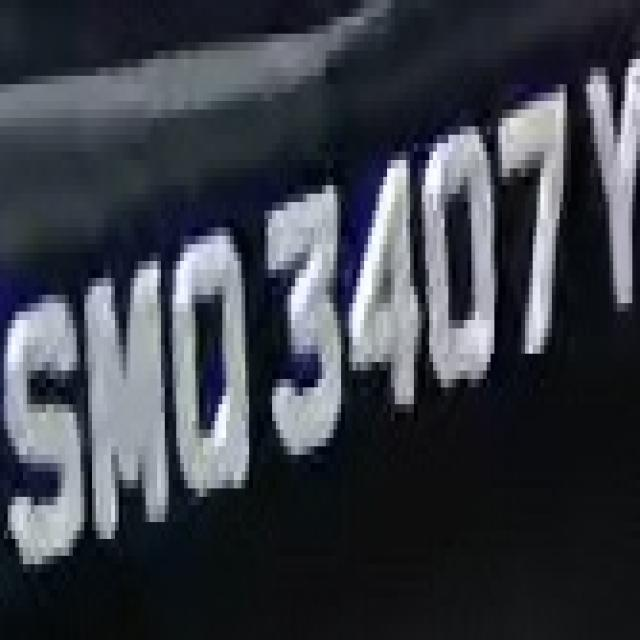0: (418, 110, 502, 404)
3: (261, 168, 345, 472)
4: (341, 126, 429, 421)
7: (483, 93, 575, 379)
M: (73, 261, 172, 556)
Q: (161, 202, 257, 531)
S: (8, 278, 88, 581)
Y: (571, 34, 640, 345)
